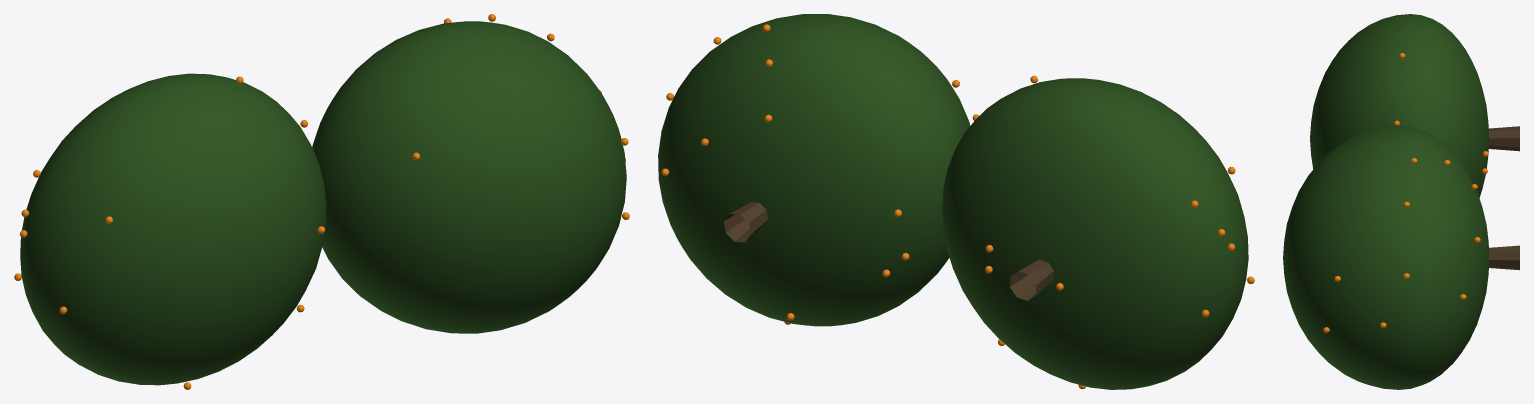
File: citrus_plain2_f_fruit.obj
The picture shows the model from 3 angles, left to right: view 1: azimuth 30°, elevation 25°; view 2: azimuth 150°, elevation 25°; view 3: azimuth 270°, elevation 25°; orthographic projection. The views are drawn at different scales.
Parts seen in each view (by area): view 1: canopy, fruit; view 2: canopy, trunk, fruit; view 3: canopy, trunk, fruit.
Part boxes in pixels (box(x1,y1,x2,y2)): canopy: box(20, 21, 626, 385); fruit: box(14, 14, 629, 389); canopy: box(658, 14, 1248, 389); trunk: box(724, 202, 1053, 300); fruit: box(661, 24, 1254, 389); canopy: box(1283, 14, 1488, 389); trunk: box(1488, 126, 1519, 270); fruit: box(1323, 53, 1488, 332).
Size of the model in its own units: 6.13 by 3.12 by 2.74.
